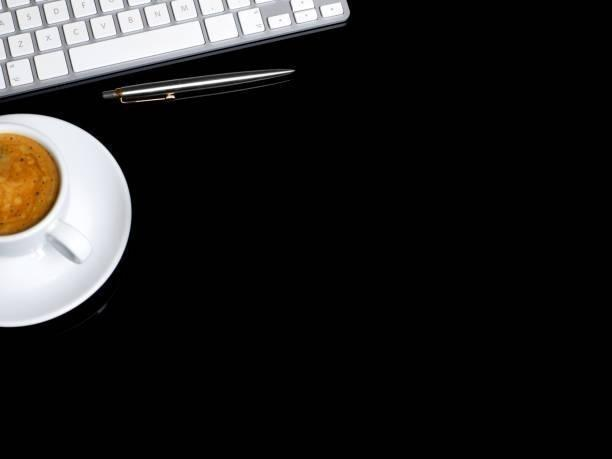cup-handle: (0, 120, 94, 266)
